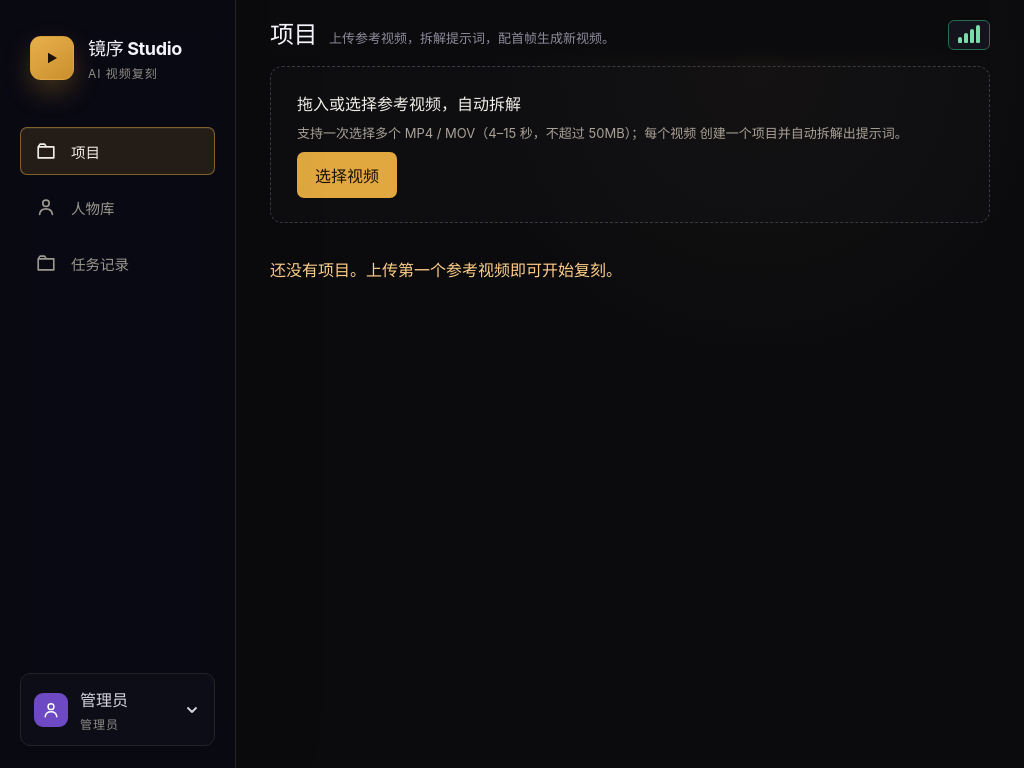
Test: App › shows the fixed storage policy hint on the runtime form
Expected: the heading "项目" is shown, [270,20,317,50]
Click the button with aria-label "用户菜单": point(118, 710) [20,673,215,746]
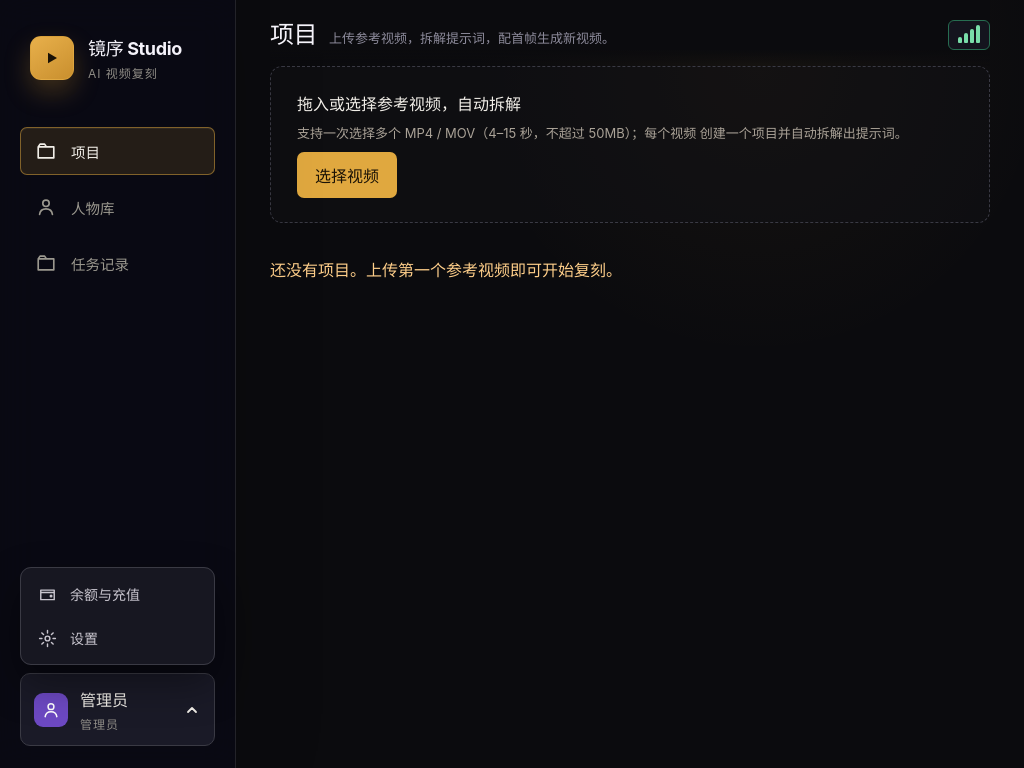
Click the button "设置": point(118, 638) [27,618,208,658]
(page scrolled)
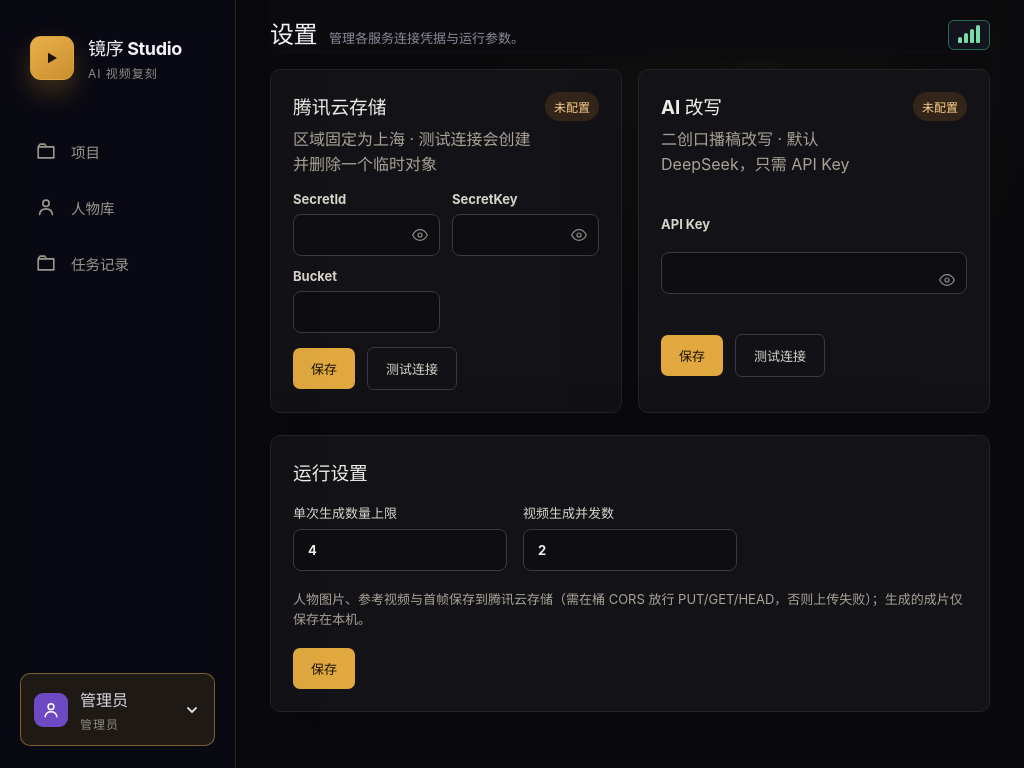
Expected: the heading "运行设置" is shown, [293,462,368,485]
Expected: the text "生成的成片仅保存在本机" is shown, [293,591,963,627]
